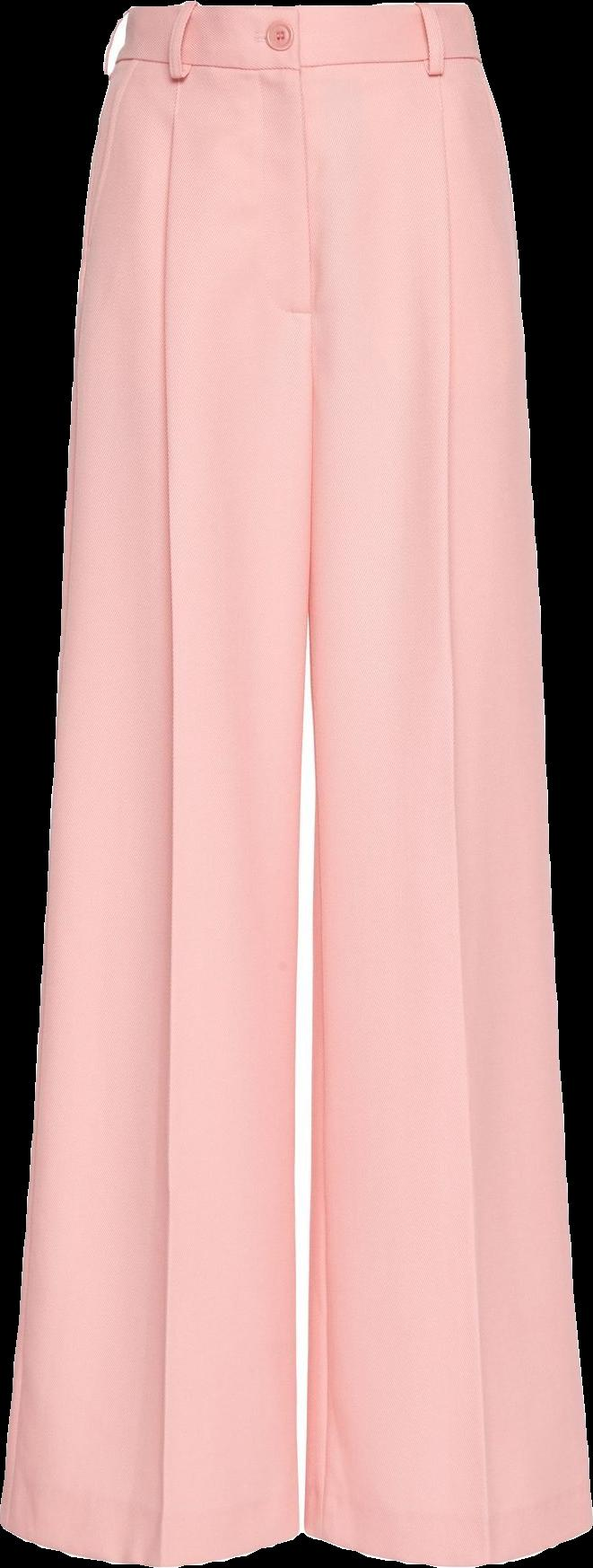Hemline: (0, 1508, 298, 1566), (307, 1515, 592, 1566)
Pantleg: (0, 3, 310, 1565), (302, 4, 592, 1566)
Waistline: (108, 48, 494, 91), (129, 0, 470, 28)
